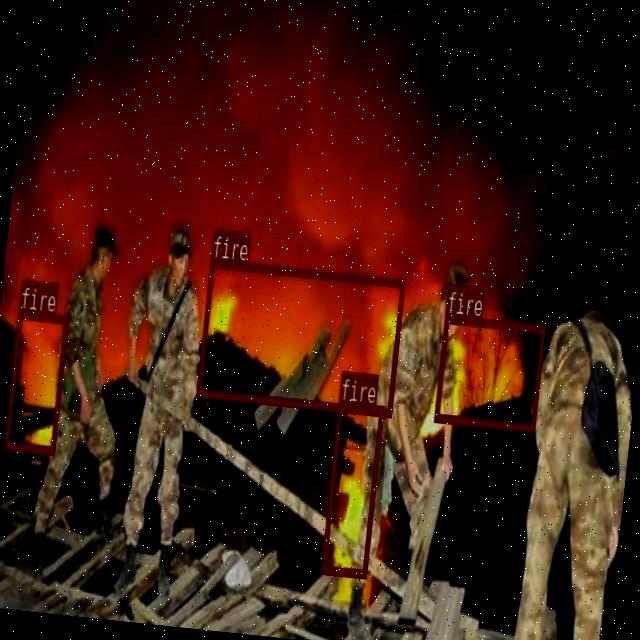fire: (195, 258, 404, 414), (433, 312, 545, 430), (320, 399, 383, 576), (2, 309, 68, 454)
